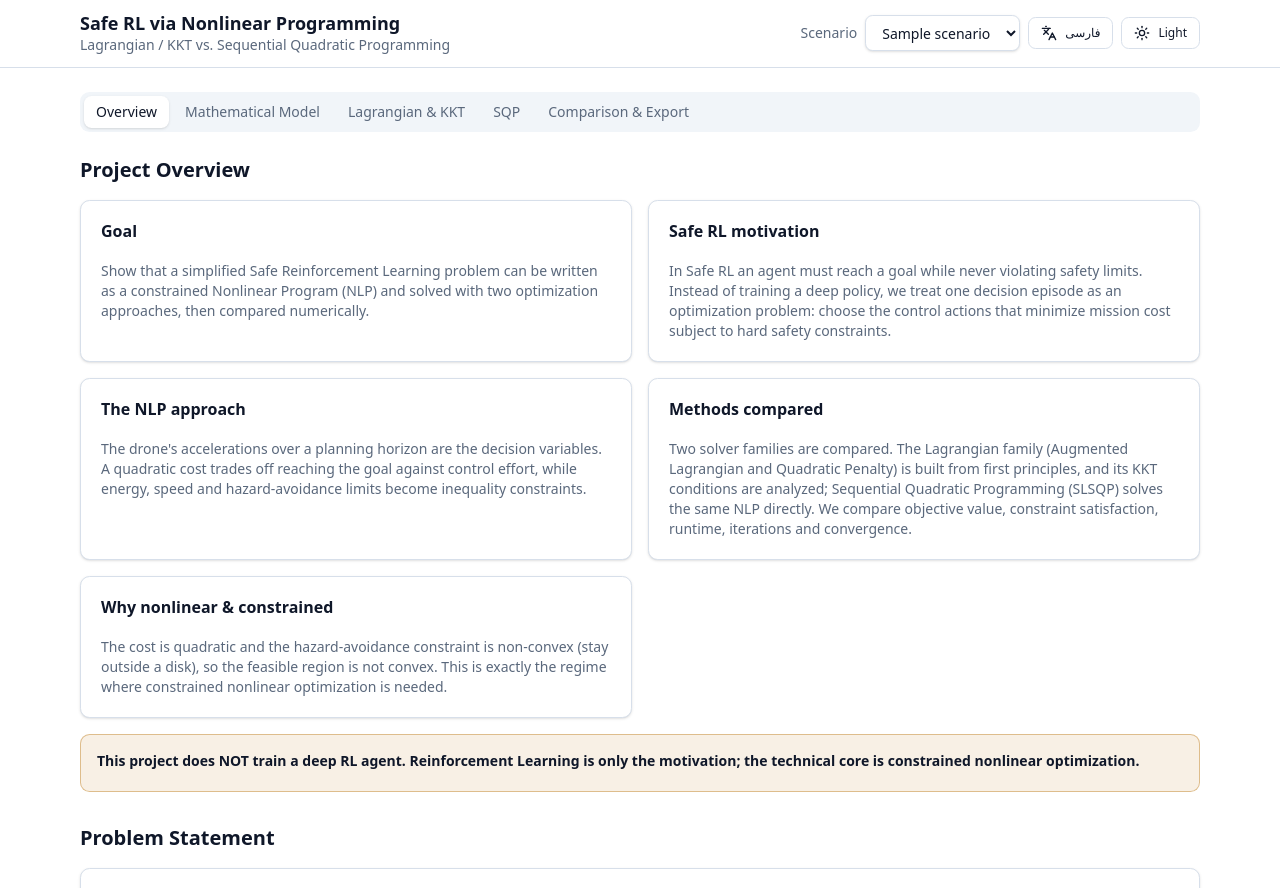
Test: graceful degradation › renders chart empty-states when a method has no history/trajectory
This screenshot has width=1280, height=888.
Click the tab "Comparison & Export": (619, 112) [536, 96, 701, 128]
(page scrolled)
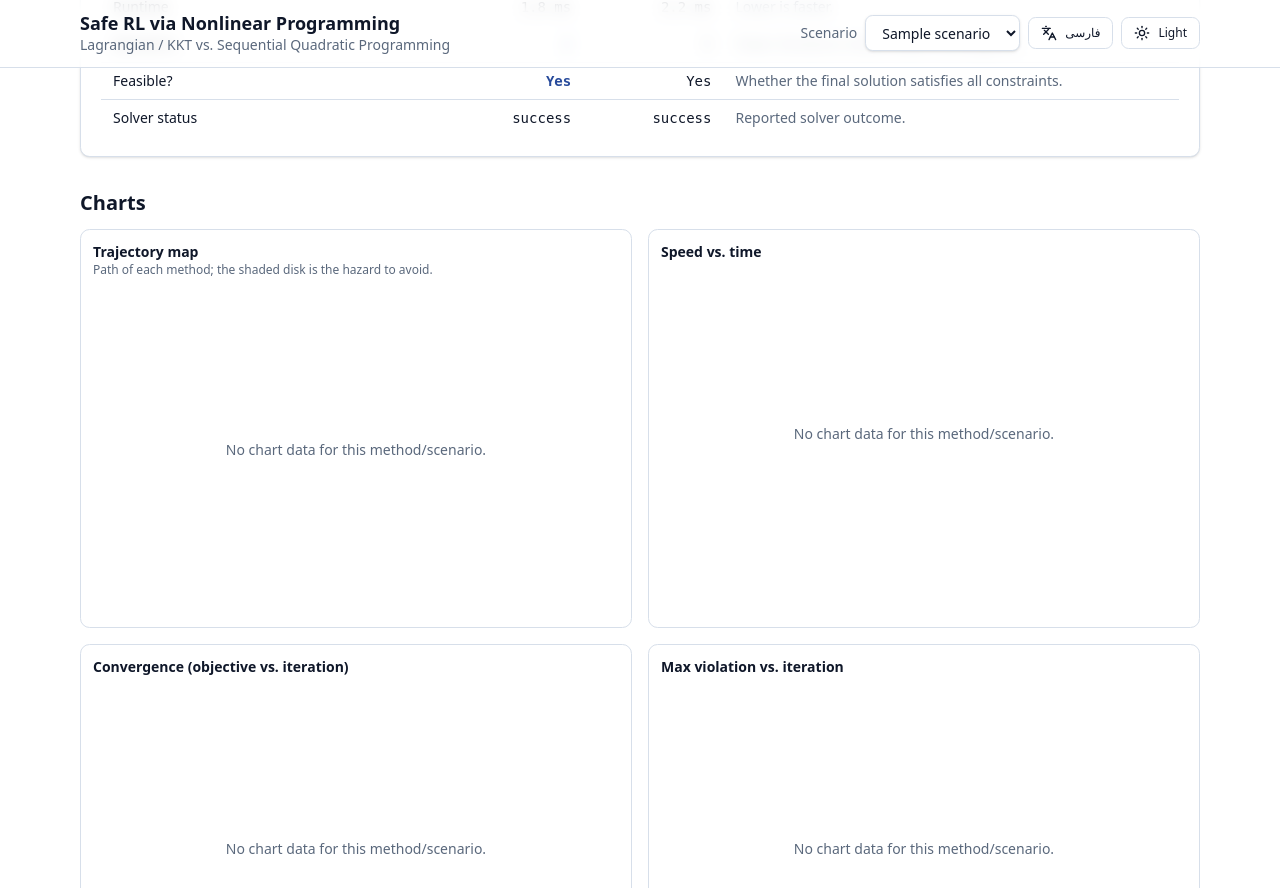
Check: the text "No chart data for this method/scenario." below "Trajectory map" is shown, box [226, 440, 486, 459]
